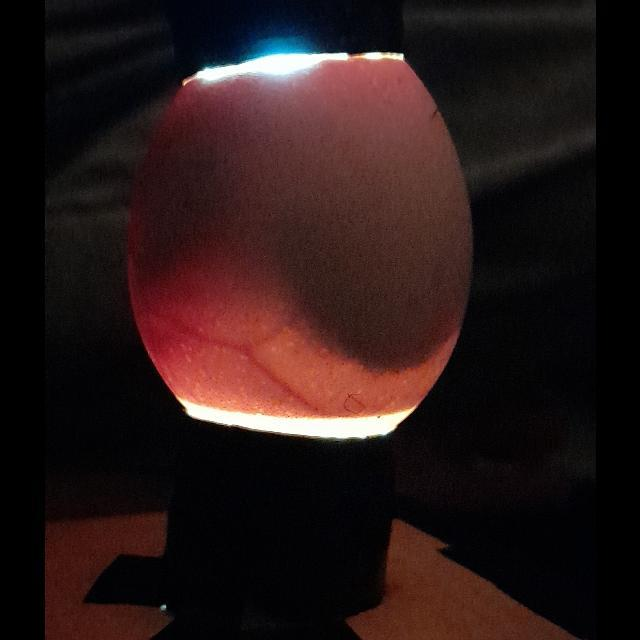Fertile: (125, 58, 477, 442)
